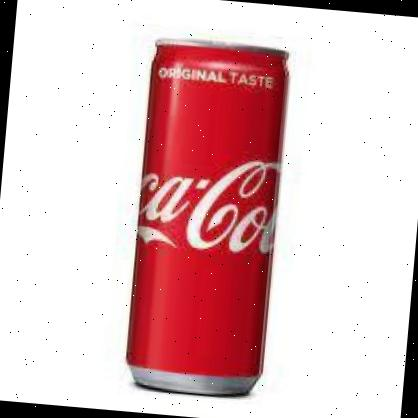can: (118, 34, 293, 408)
